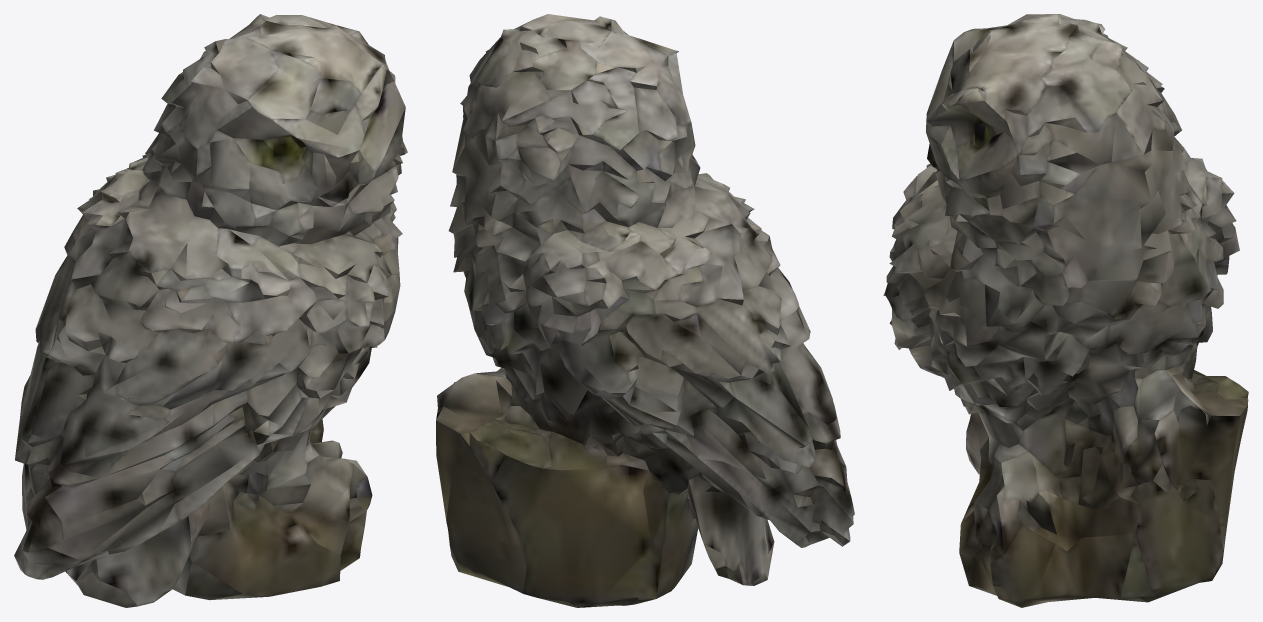
File: Owl.glb
The picture shows the model from 3 angles, left to right: view 1: azimuth 30°, elevation 25°; view 2: azimuth 150°, elevation 25°; view 3: azimuth 270°, elevation 25°; orthographic projection. The views are drawn at different scales.
Parts seen in each view (by area): view 1: Obj3d66-13312533-2-995; view 2: Obj3d66-13312533-2-995; view 3: Obj3d66-13312533-2-995.
Part boxes in pixels (left/top/right/bottom): Obj3d66-13312533-2-995: left=14, top=14, right=407, bottom=607; Obj3d66-13312533-2-995: left=436, top=14, right=854, bottom=607; Obj3d66-13312533-2-995: left=883, top=14, right=1248, bottom=607.
Bounding box in the file's own units: 0.7447 × 0.9908 × 0.5863.
Materials: 1 (1 with a texture image).
